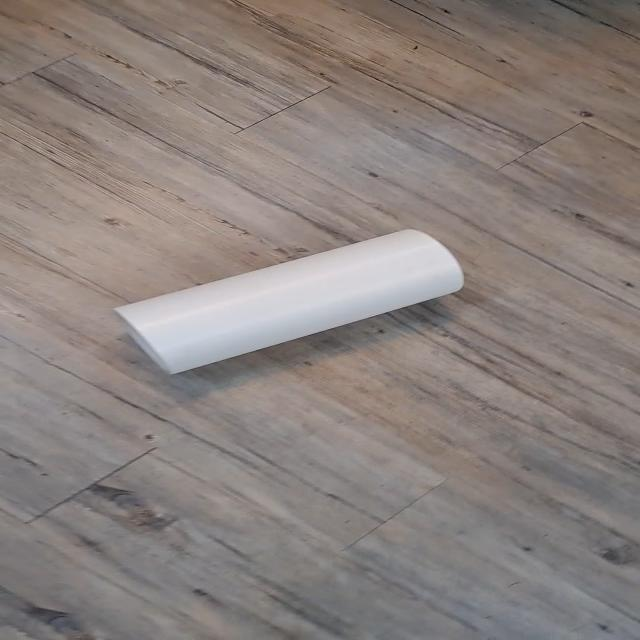CORAL: (101, 232, 490, 382)
